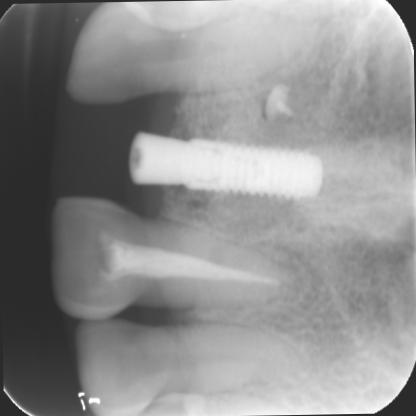ITI: (176, 126, 328, 198)
